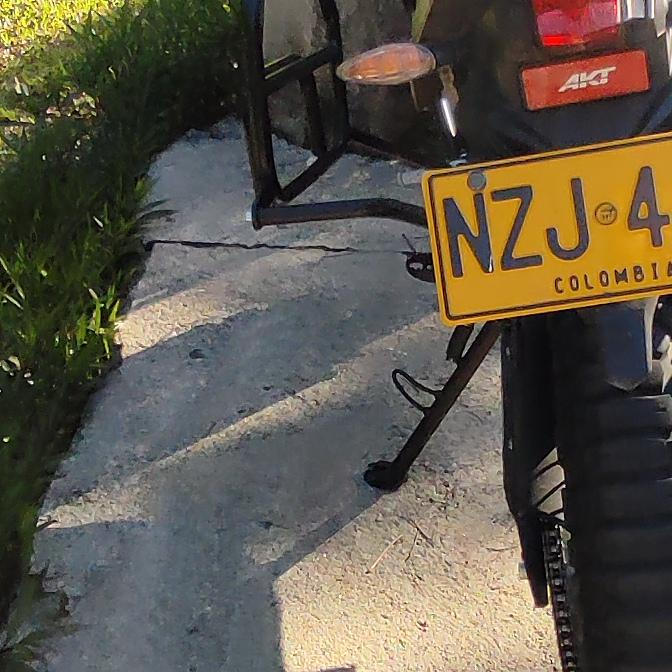plates: (423, 134, 672, 327)
